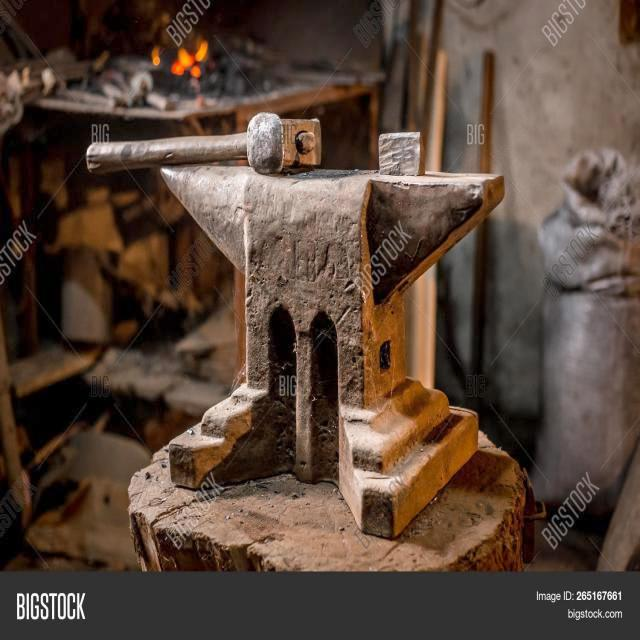hammer: (81, 98, 333, 185)
